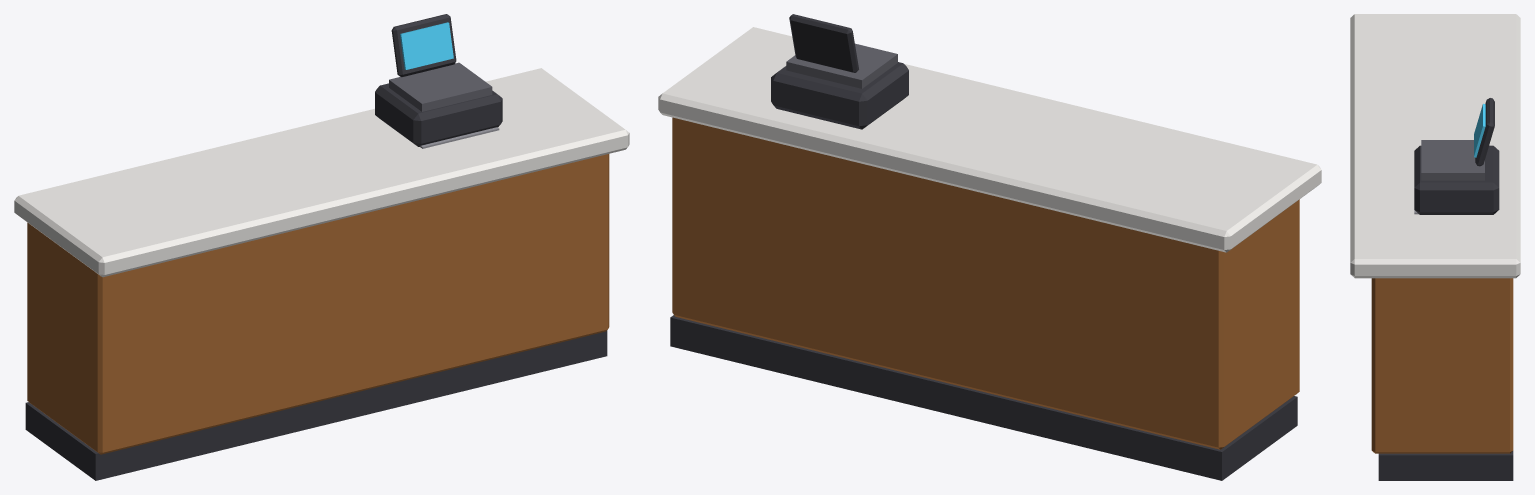
Rendered from ServiceCounter.fbx.
3 views of the same model, side by side, from view 1: azimuth 30°, elevation 25°; view 2: azimuth 150°, elevation 25°; view 3: azimuth 270°, elevation 25° (orthographic). The views are drawn at different scales.
Parts seen in each view (by area): view 1: ServiceCounter; view 2: ServiceCounter; view 3: ServiceCounter.
Boxes of the visible parts, box(x1,y1,x2,y2) form: ServiceCounter: box(14, 14, 629, 480); ServiceCounter: box(658, 14, 1321, 480); ServiceCounter: box(1350, 14, 1520, 480).
Bounding box in the file's own units: 8.3 × 4.84 × 2.4.
1 material, 1 textured.
